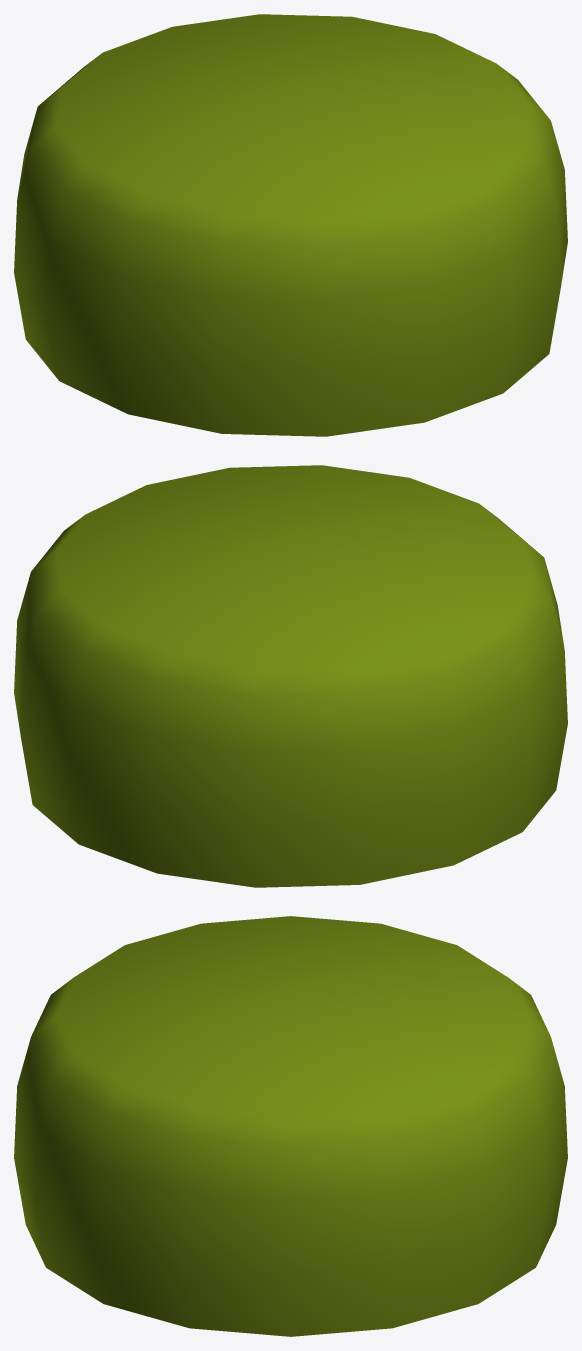
Rendered from Tapa_06.fbx.
3 views of the same model, one above another, from view 1: azimuth 30°, elevation 25°; view 2: azimuth 150°, elevation 25°; view 3: azimuth 270°, elevation 25° (orthographic).
Parts seen in each view (by area): view 1: Tapa_06; view 2: Tapa_06; view 3: Tapa_06.
Boxes of the visible parts, x1,y1,x2,y2 form: Tapa_06: (14, 14, 567, 436); Tapa_06: (14, 465, 567, 887); Tapa_06: (14, 916, 567, 1336).
Bounding box in the file's own units: 9.59 × 4.03 × 9.59.
